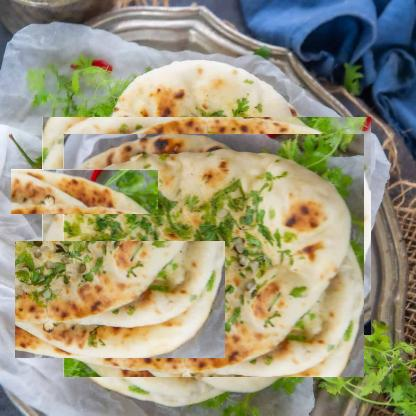naan: (70, 90, 344, 363), (78, 119, 350, 392), (38, 217, 202, 381), (36, 144, 133, 240)
